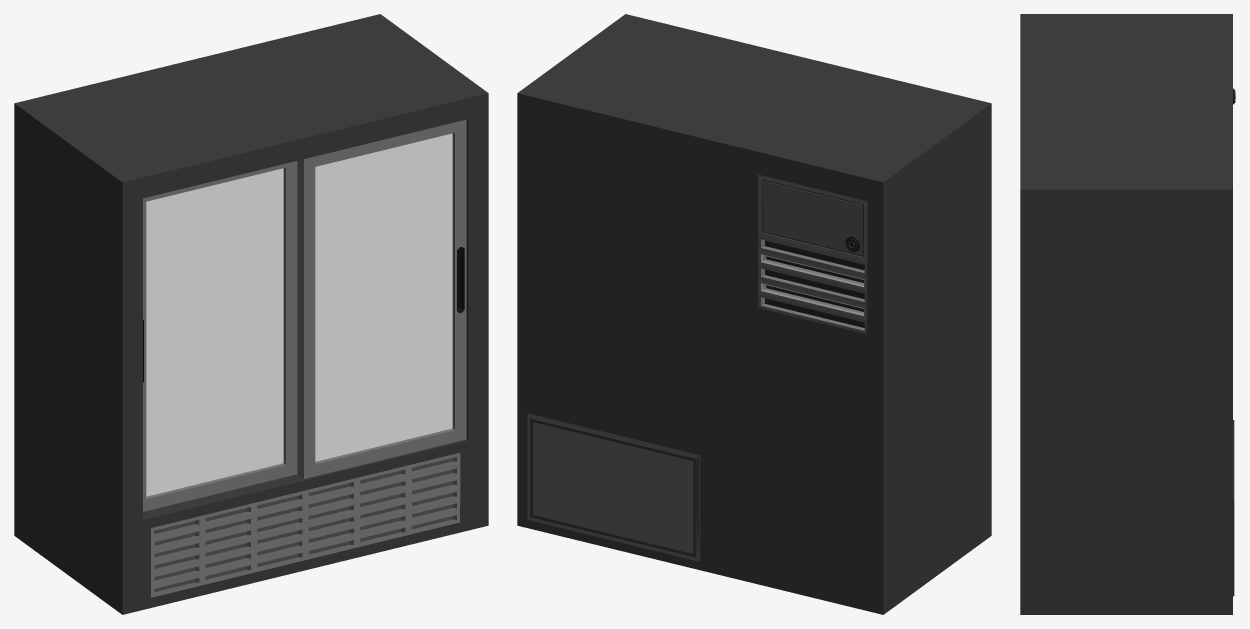
File: Double Sliding Door Fridge.fbx
The picture shows the model from 3 angles, left to right: view 1: azimuth 30°, elevation 25°; view 2: azimuth 150°, elevation 25°; view 3: azimuth 270°, elevation 25°; orthographic projection.
Parts seen in each view (by area): view 1: Double Sliding Door Fridge/Cooler; view 2: Double Sliding Door Fridge/Cooler; view 3: Double Sliding Door Fridge/Cooler.
Part boxes in pixels (<box>): Double Sliding Door Fridge/Cooler: <box>14,14,488,614</box>; Double Sliding Door Fridge/Cooler: <box>517,14,991,614</box>; Double Sliding Door Fridge/Cooler: <box>1020,14,1235,614</box>.
Size of the model in its own units: 171 by 193 by 88.63.
Materials: 3 (2 with a texture image).
